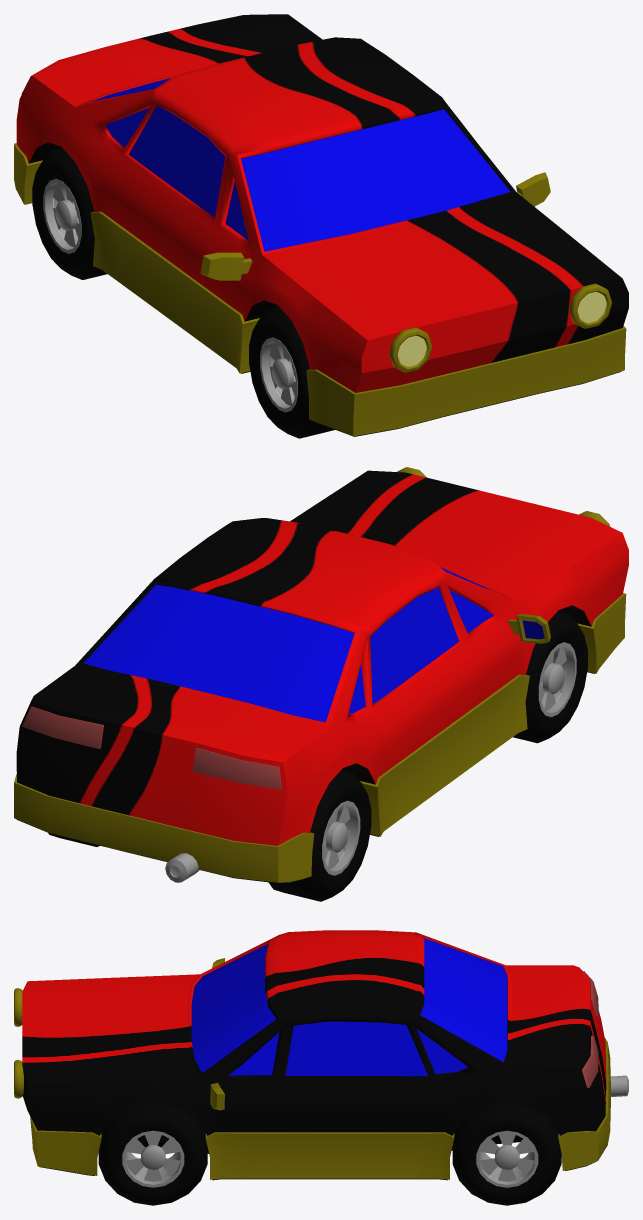
File: Muscle Evolution1 DarkYellow WaveBlackRed Blue LightGrey.glb
The picture shows the model from 3 angles, top to bottom: view 1: azimuth 30°, elevation 25°; view 2: azimuth 150°, elevation 25°; view 3: azimuth 270°, elevation 25°; orthographic projection. The views are drawn at different scales.
Visible parts, largest first — view 1: evo1_body4_f1_dupl, evo1_sill0_f1_dupl, evo1_frontGlass_f1_dupl, evo1_glasseBigR_f1_dupl, evo1_tire_rf_f1_dupl, evo1_tire_rf1_f1_dupl, evo1_rim_A_rb_f1_dupl, evo1_rim_A_rf_f1_dupl, evo1_mirorR3_f1_dupl, evo1_blockLightR_f1_dupl, evo1_blockLightL_f1_dupl, evo1_mirorL3_f1_dupl (+4 smaller); view 2: evo1_body4_f1_dupl, evo1_sill0_f1_dupl, evo1_BackGlassGlass_f1_dupl, evo1_glasseBigR_f1_dupl, evo1_tire_rf_f1_dupl, evo1_tire_rf1_f1_dupl, evo1_rim_A_rf_f1_dupl, evo1_rim_A_rb_f1_dupl, evo1_redlightR2_f1_dupl, evo1_redlightL2_f1_dupl, evo1_glassfR_f1_dupl, evo1_pipe1_f1_dupl (+1 smaller); view 3: evo1_body4_f1_dupl, evo1_sill0_f1_dupl, evo1_BackGlassGlass_f1_dupl, evo1_glasseBigL_f1_dupl, evo1_frontGlass_f1_dupl, evo1_tire_lb_f1_dupl, evo1_tire_lf_f1_dupl, evo1_rim_A_lf_f1_dupl, evo1_rim_A_lb_f1_dupl, evo1_glassfL_f1_dupl, evo1_glassbL_f1_dupl, evo1_GroundBody_f1_dupl (+1 smaller).
Boxes of the visible parts, x1,y1,x2,y2 form: evo1_body4_f1_dupl: [16, 14, 628, 392]; evo1_sill0_f1_dupl: [14, 143, 626, 436]; evo1_frontGlass_f1_dupl: [241, 109, 510, 251]; evo1_glasseBigR_f1_dupl: [128, 105, 225, 217]; evo1_tire_rf_f1_dupl: [32, 147, 107, 279]; evo1_tire_rf1_f1_dupl: [249, 306, 334, 438]; evo1_rim_A_rb_f1_dupl: [43, 179, 81, 253]; evo1_rim_A_rf_f1_dupl: [260, 337, 297, 412]; evo1_mirorR3_f1_dupl: [200, 252, 252, 280]; evo1_blockLightR_f1_dupl: [389, 327, 432, 372]; evo1_blockLightL_f1_dupl: [569, 283, 612, 328]; evo1_mirorL3_f1_dupl: [516, 172, 550, 206]; evo1_body4_f1_dupl: [16, 470, 628, 845]; evo1_sill0_f1_dupl: [14, 593, 626, 882]; evo1_BackGlassGlass_f1_dupl: [83, 584, 354, 722]; evo1_glasseBigR_f1_dupl: [370, 587, 458, 704]; evo1_tire_rf_f1_dupl: [268, 769, 371, 901]; evo1_tire_rf1_f1_dupl: [513, 610, 587, 743]; evo1_rim_A_rf_f1_dupl: [538, 642, 576, 717]; evo1_rim_A_rb_f1_dupl: [322, 800, 360, 875]; evo1_redlightR2_f1_dupl: [192, 748, 281, 789]; evo1_redlightL2_f1_dupl: [22, 706, 103, 748]; evo1_glassfR_f1_dupl: [449, 590, 493, 632]; evo1_pipe1_f1_dupl: [165, 853, 199, 882]; evo1_body4_f1_dupl: [22, 930, 606, 1152]; evo1_sill0_f1_dupl: [30, 1037, 610, 1179]; evo1_BackGlassGlass_f1_dupl: [420, 937, 507, 1061]; evo1_glasseBigL_f1_dupl: [285, 1021, 427, 1076]; evo1_frontGlass_f1_dupl: [191, 944, 276, 1073]; evo1_tire_lb_f1_dupl: [452, 1102, 561, 1205]; evo1_tire_lf_f1_dupl: [98, 1102, 207, 1205]; evo1_rim_A_lf_f1_dupl: [122, 1130, 184, 1187]; evo1_rim_A_lb_f1_dupl: [476, 1130, 538, 1187]; evo1_glassfL_f1_dupl: [228, 1032, 279, 1075]; evo1_glassbL_f1_dupl: [416, 1028, 467, 1073]; evo1_GroundBody_f1_dupl: [40, 1140, 594, 1180].
Size of the model in its own units: 177 by 112 by 331.
Materials: 7 (1 with a texture image).
